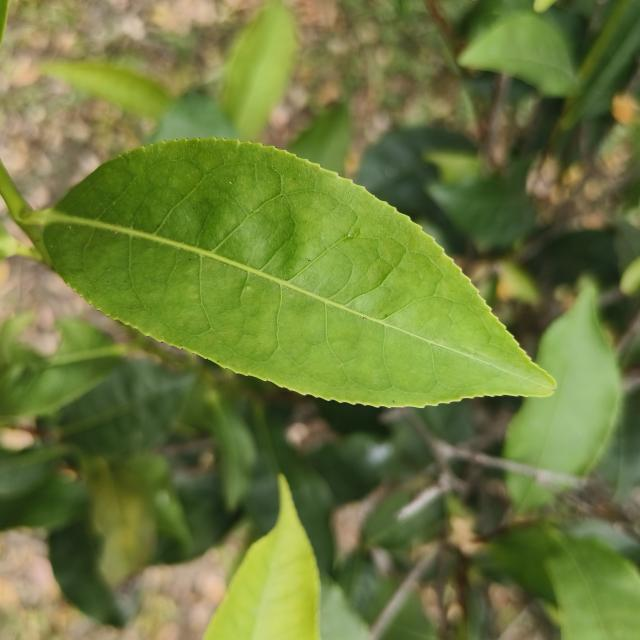Leaf: (23, 138, 554, 407), (503, 281, 622, 476), (54, 359, 194, 459), (0, 314, 123, 419), (221, 0, 298, 140), (458, 11, 576, 96), (546, 535, 640, 640), (83, 456, 156, 585), (48, 516, 127, 627), (41, 61, 172, 119), (429, 181, 535, 248), (288, 103, 350, 175), (507, 474, 553, 512)
